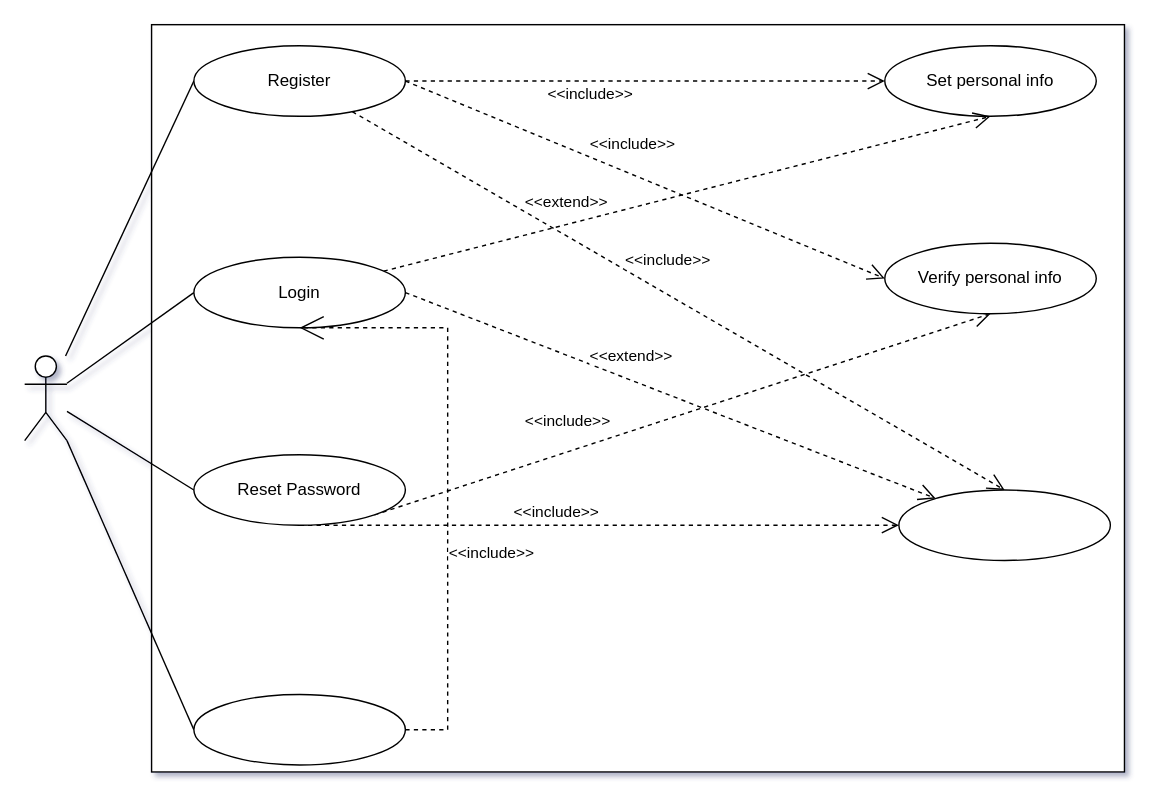
Image size: 1158x805. Some labels were removed from this diagram. Here are the shapes that lost their labels. From the top down, the centre of each, then its label:
At [45,398]: "User".
At [1003,524]: "Set user password".
At [298,729]: "Delete Account".
